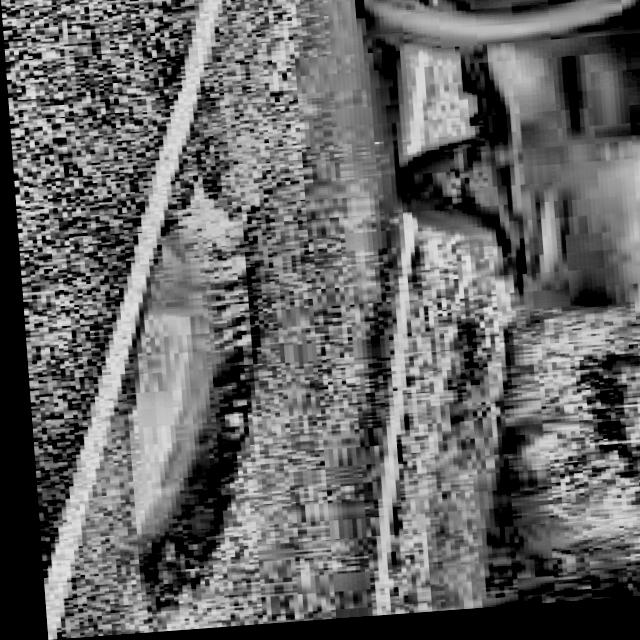pothole: (83, 184, 260, 605)
